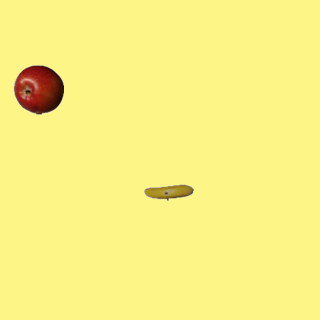Apple Braeburn: (13, 64, 63, 114)
Banana: (143, 167, 193, 217)
